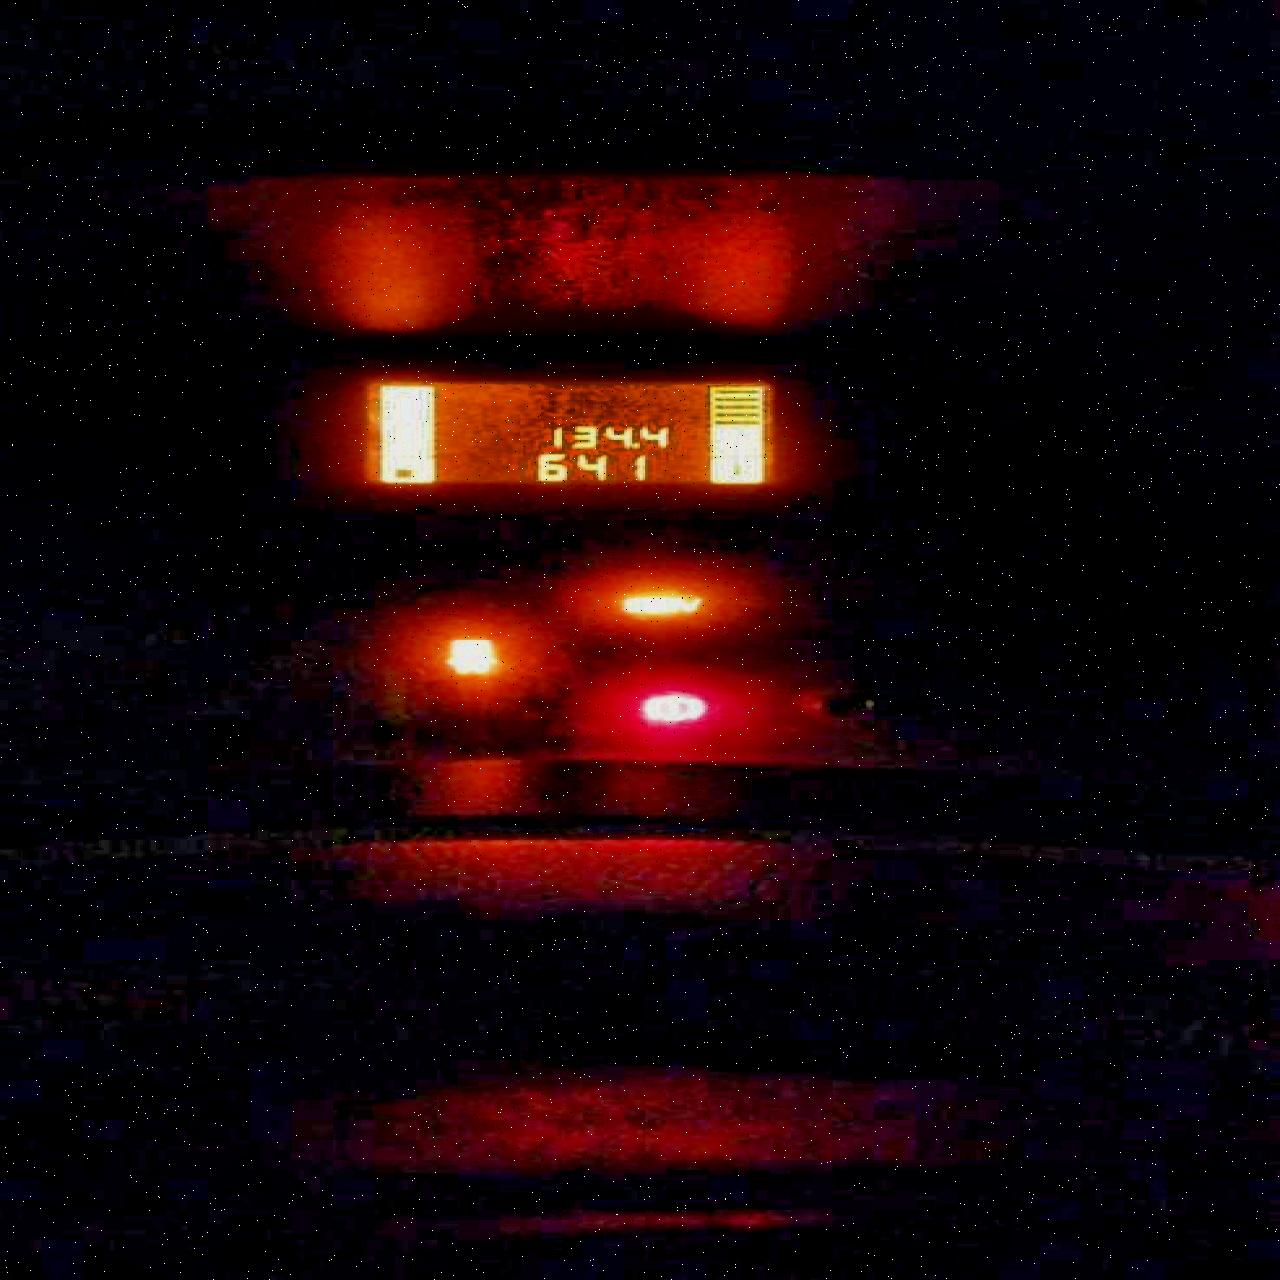-: (629, 440, 640, 449)
1: (625, 451, 648, 481), (544, 423, 565, 448)
3: (570, 423, 598, 449)
4: (576, 451, 606, 481), (638, 423, 668, 448), (601, 423, 629, 449)
6: (533, 450, 567, 482)
odometer: (349, 376, 778, 486)
